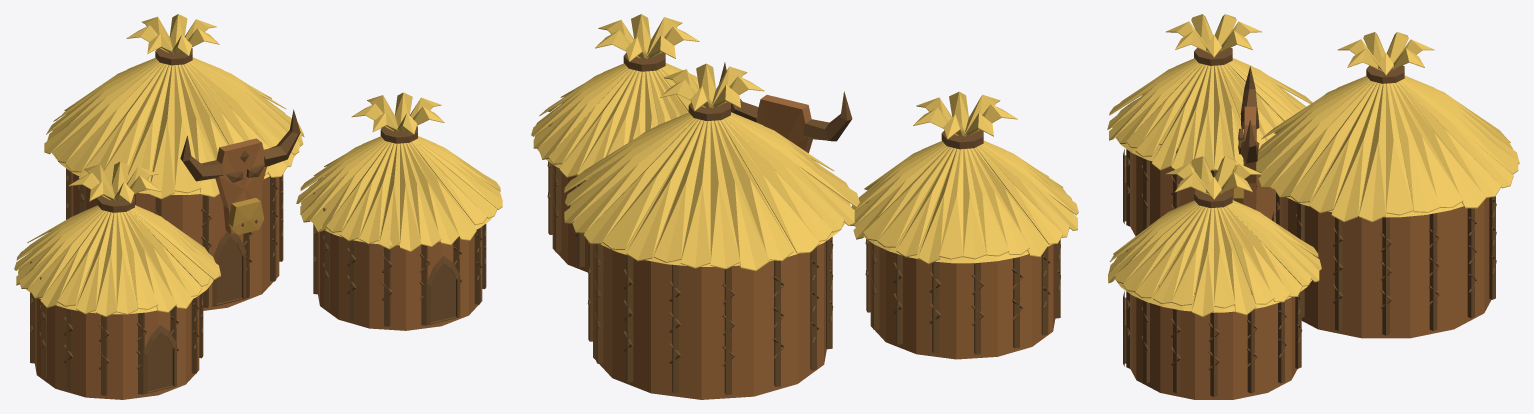
The model's file is building.glb.
The picture shows the model from 3 angles, left to right: view 1: azimuth 30°, elevation 25°; view 2: azimuth 150°, elevation 25°; view 3: azimuth 270°, elevation 25°; orthographic projection. The views are drawn at different scales.
Visible parts, largest first — view 1: 09_R2B_Yaks_WideHutsAndClearYakMask; view 2: 09_R2B_Yaks_WideHutsAndClearYakMask; view 3: 09_R2B_Yaks_WideHutsAndClearYakMask.
Part boxes in pixels (box(x1,y1,x2,y2)): 09_R2B_Yaks_WideHutsAndClearYakMask: box(14, 14, 502, 399); 09_R2B_Yaks_WideHutsAndClearYakMask: box(531, 14, 1078, 399); 09_R2B_Yaks_WideHutsAndClearYakMask: box(1107, 14, 1519, 399).
Size of the model in its own units: 1.41 by 0.71 by 1.05.
